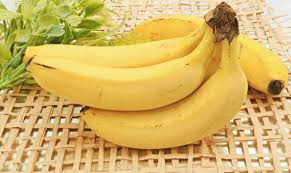banana: (25, 8, 249, 151)
